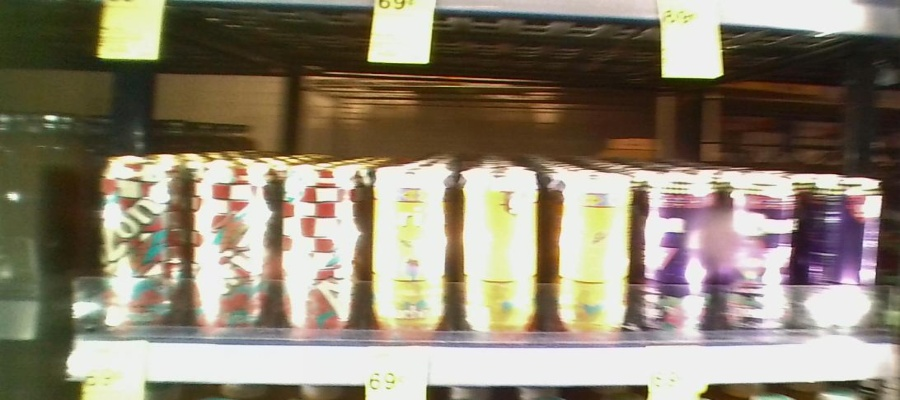bottle: (97, 137, 190, 334), (456, 158, 547, 340), (194, 139, 276, 333), (551, 159, 636, 340), (368, 158, 454, 334), (802, 165, 886, 339), (282, 151, 363, 331), (723, 162, 797, 339), (641, 165, 715, 341)
